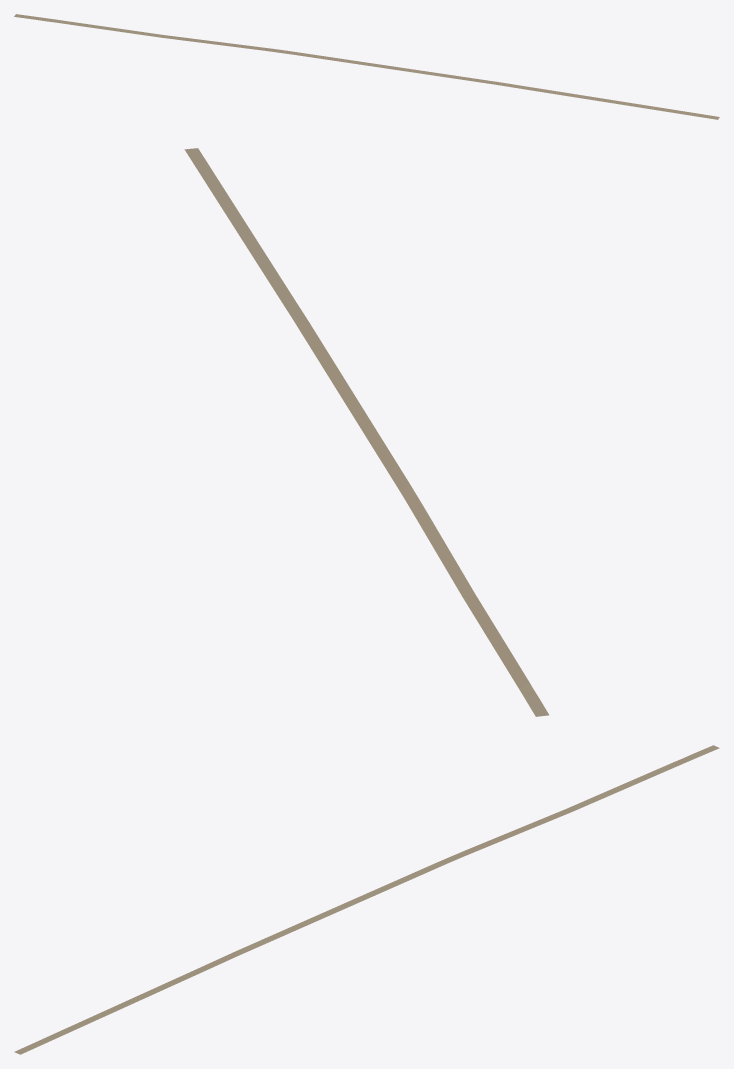
The model's file is farm_-26_-21_track.glb.
The picture shows the model from 3 angles, top to bottom: view 1: azimuth 30°, elevation 25°; view 2: azimuth 150°, elevation 25°; view 3: azimuth 270°, elevation 25°; orthographic projection. The views are drawn at different scales.
Parts seen in each view (by area): view 1: geometry_0; view 2: geometry_0; view 3: geometry_0.
Part boxes in pixels (x1,y1,x2,y2): geometry_0: (14, 14, 719, 119); geometry_0: (184, 148, 548, 716); geometry_0: (14, 745, 719, 1054).
Bounding box in the file's own units: 238 × 8.74 × 248.
